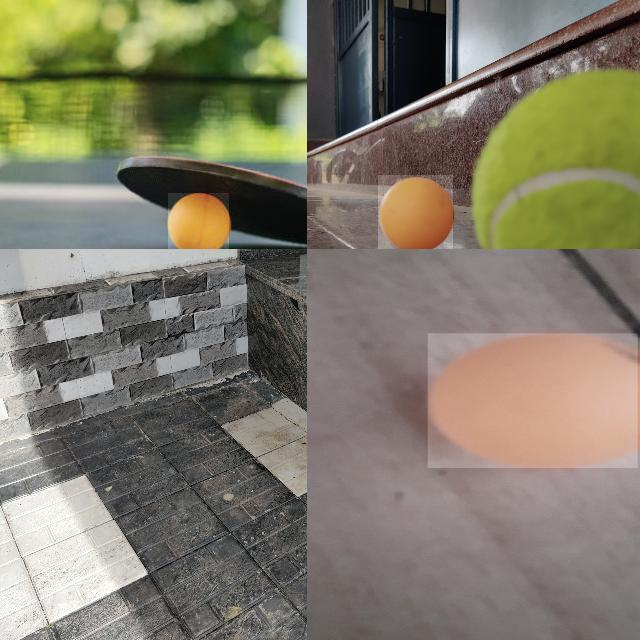ping-pong-ball: (428, 334, 639, 468), (378, 175, 455, 248), (167, 193, 231, 248)
